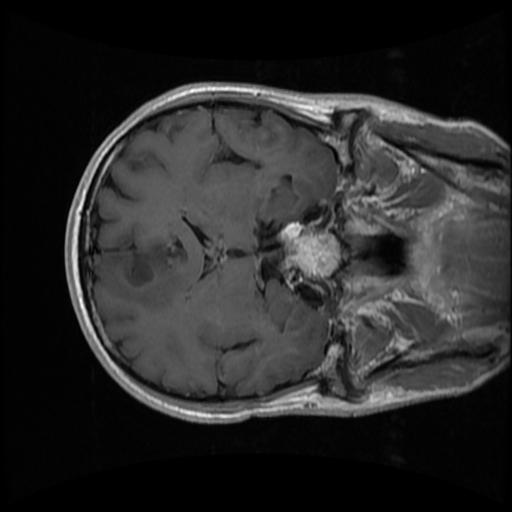glioma: (97, 228, 184, 309)
